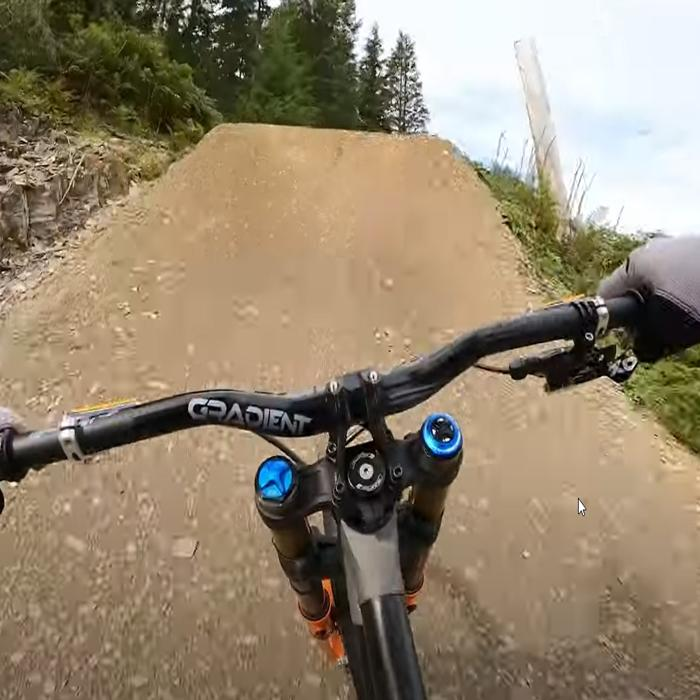turn: (157, 90, 517, 278)
